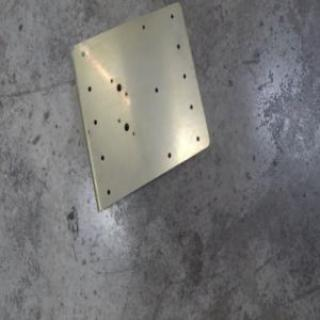MetalSheettrack_idkeyframe: (67, 0, 210, 216)
